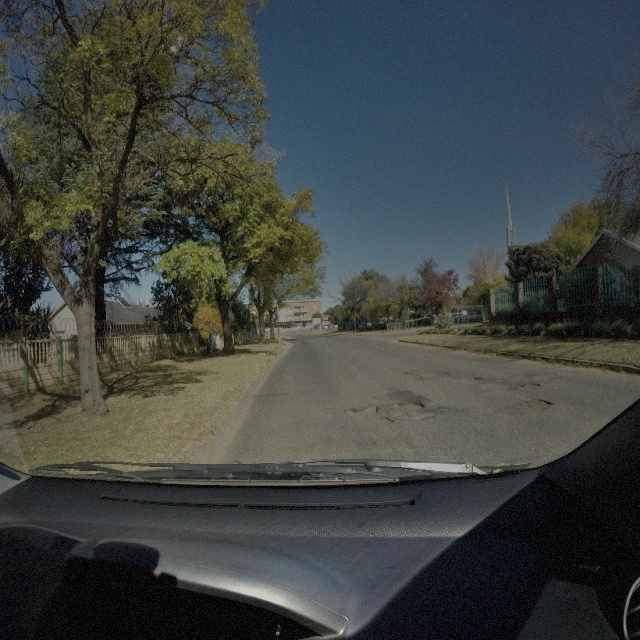pothole: (342, 404, 395, 421), (387, 399, 426, 414), (516, 398, 554, 410), (518, 382, 543, 391), (469, 373, 486, 382), (274, 389, 290, 398)
